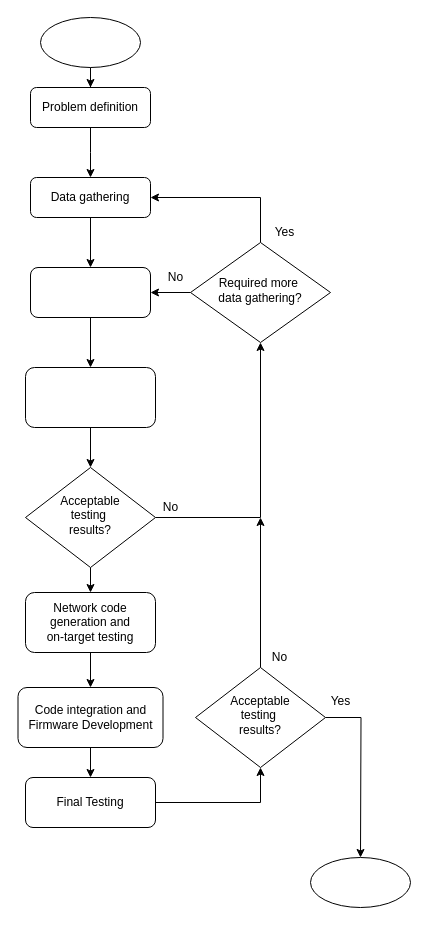
This 428x925 diagram has some shape labels left out. Here are the shapes that lost their labels. From the top down, the box of each, then its label:
(40, 16, 140, 68): Start
(30, 266, 150, 318): Data Science and Neural Model definition
(24, 366, 156, 428): Network training and validation
(310, 856, 410, 908): End
